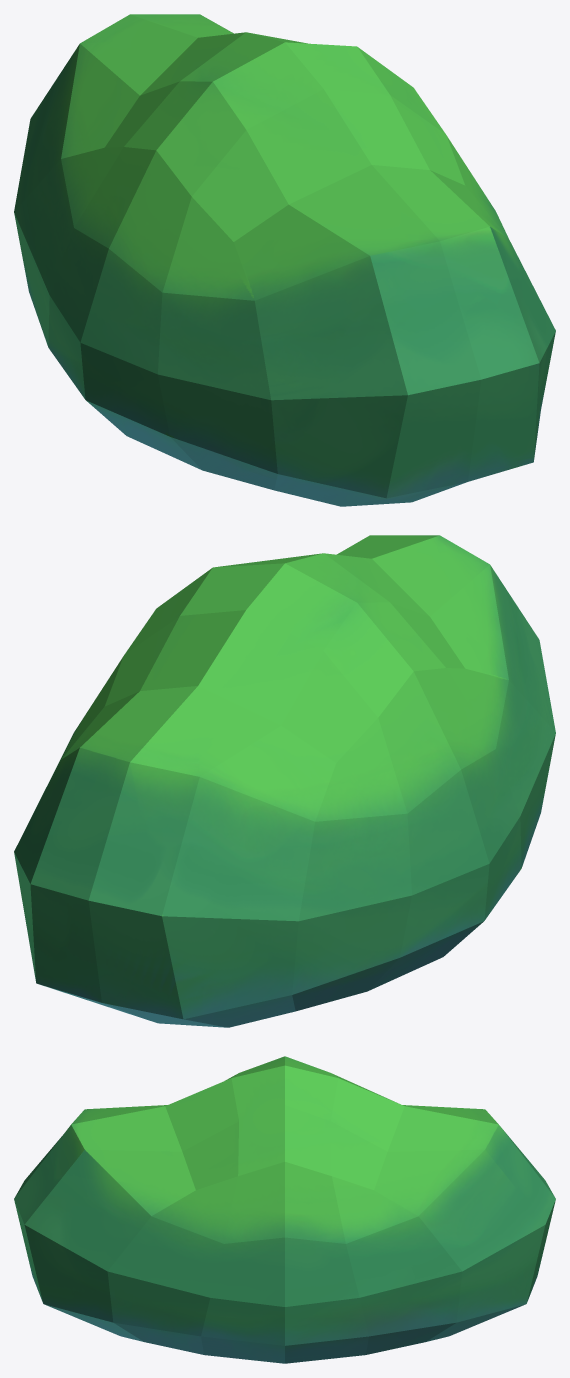
The model's file is SM_VEG_BUSH_v01.fbx.
3 renders of one model, top to bottom at view 1: azimuth 30°, elevation 25°; view 2: azimuth 150°, elevation 25°; view 3: azimuth 270°, elevation 25°, orthographic. The views are drawn at different scales.
Parts seen in each view (by area): view 1: Bush1; view 2: Bush1; view 3: Bush1.
Boxes of the visible parts, <box> form: Bush1: <box>14,14,555,506</box>; Bush1: <box>14,535,555,1027</box>; Bush1: <box>14,1056,555,1363</box>.
Bounding box in the file's own units: 122 × 109 × 203.
Materials: 1 (1 with a texture image).
